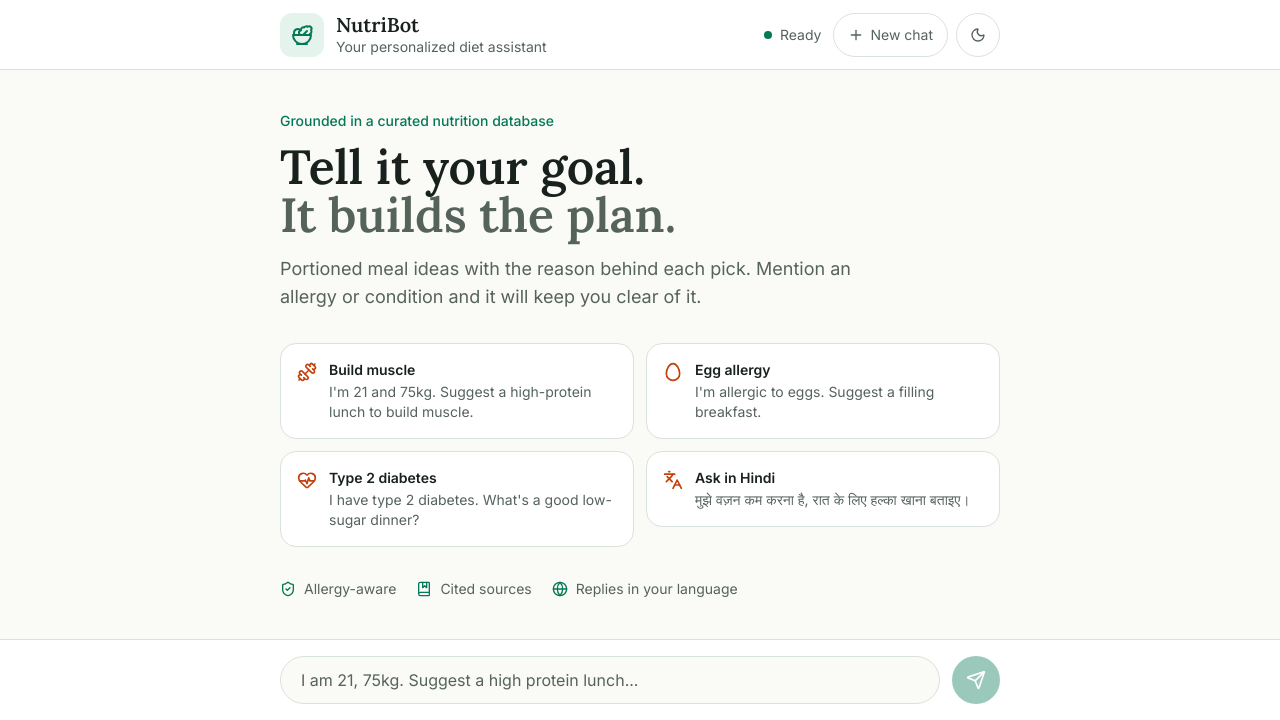
Test case: the theme toggle switches the html class and remembers the choice
Click the button named "Switch to dark mode".
click(978, 34)  # box left=956, top=12, right=1000, bottom=56
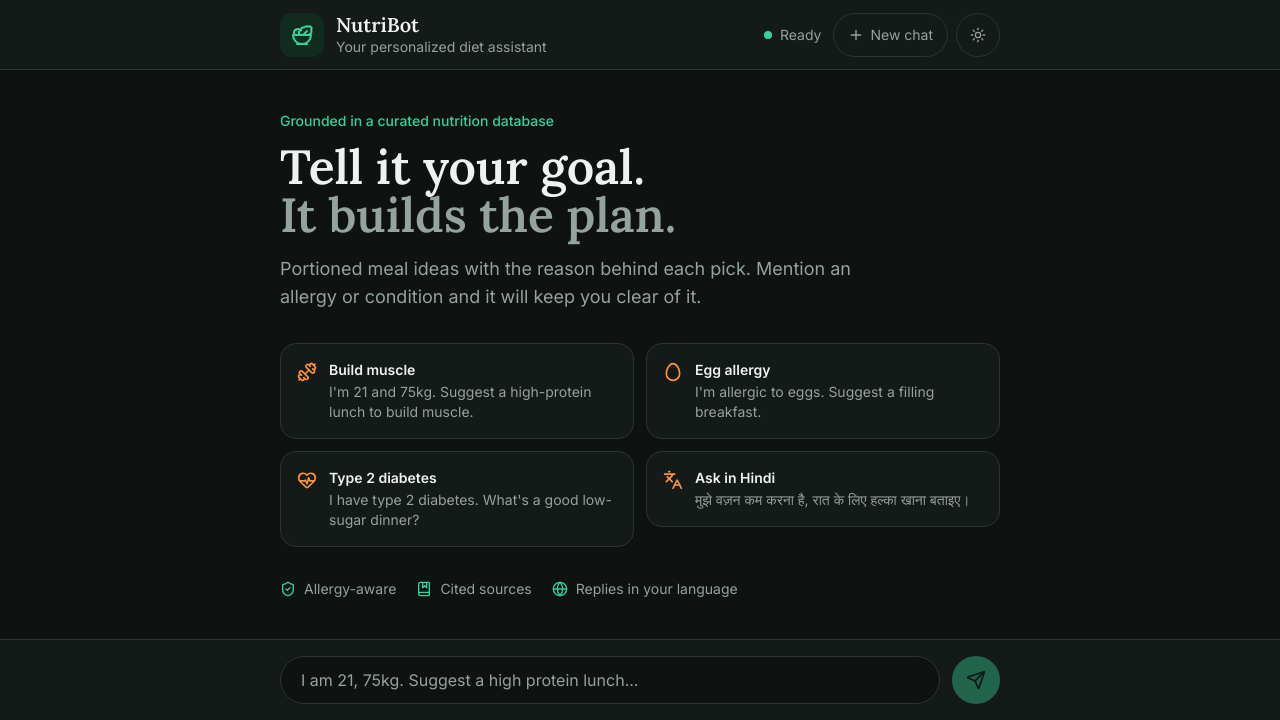
Check: the button named "Switch to light mode" is shown, box left=956, top=12, right=1000, bottom=56
